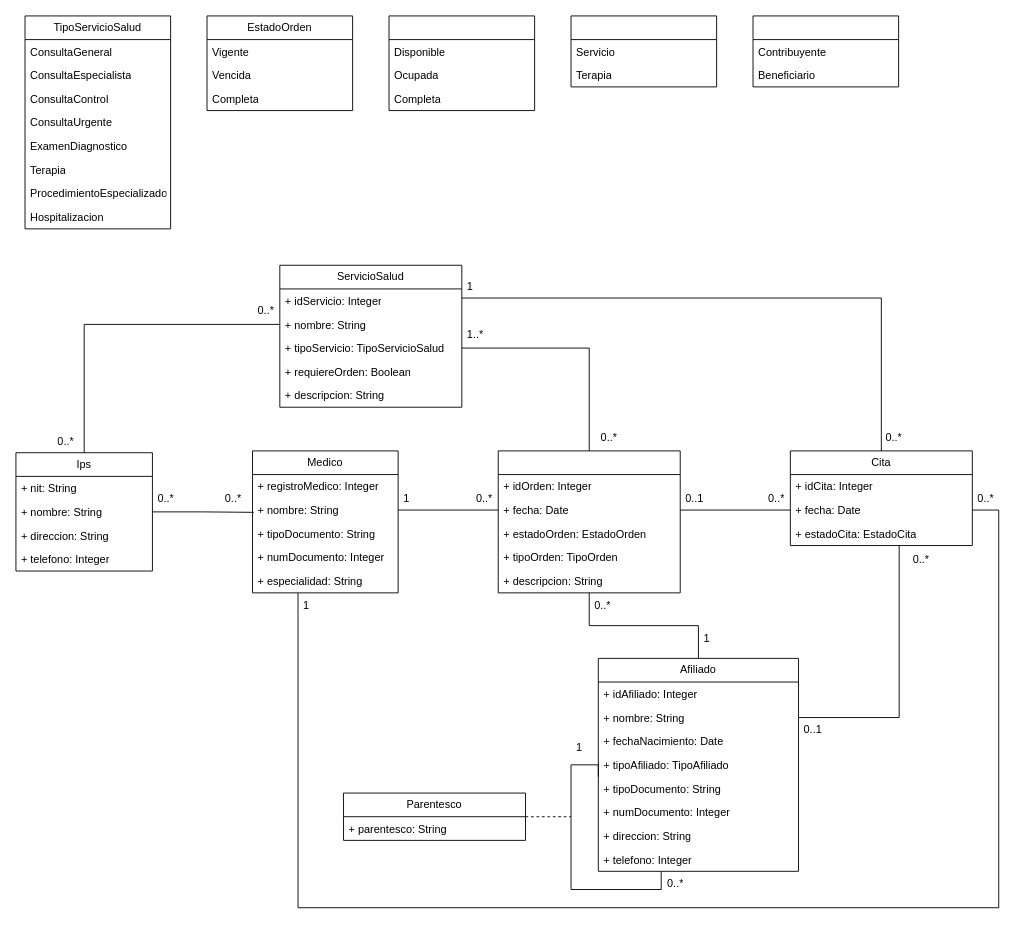
Image size: 1016x925. Some labels were removed from this diagram. Each missing label, with the box of its shape:
EstadoCita: (388, 15, 535, 111)
OrdenServicio: (497, 450, 680, 593)
TipoAfiliado: (752, 15, 899, 87)
TipoOrden: (570, 15, 717, 87)
